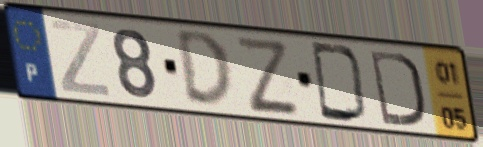8: (110, 26, 160, 100)
D: (308, 39, 371, 126), (172, 29, 236, 112), (367, 47, 427, 130)
Z: (231, 33, 303, 115), (47, 17, 112, 99)
